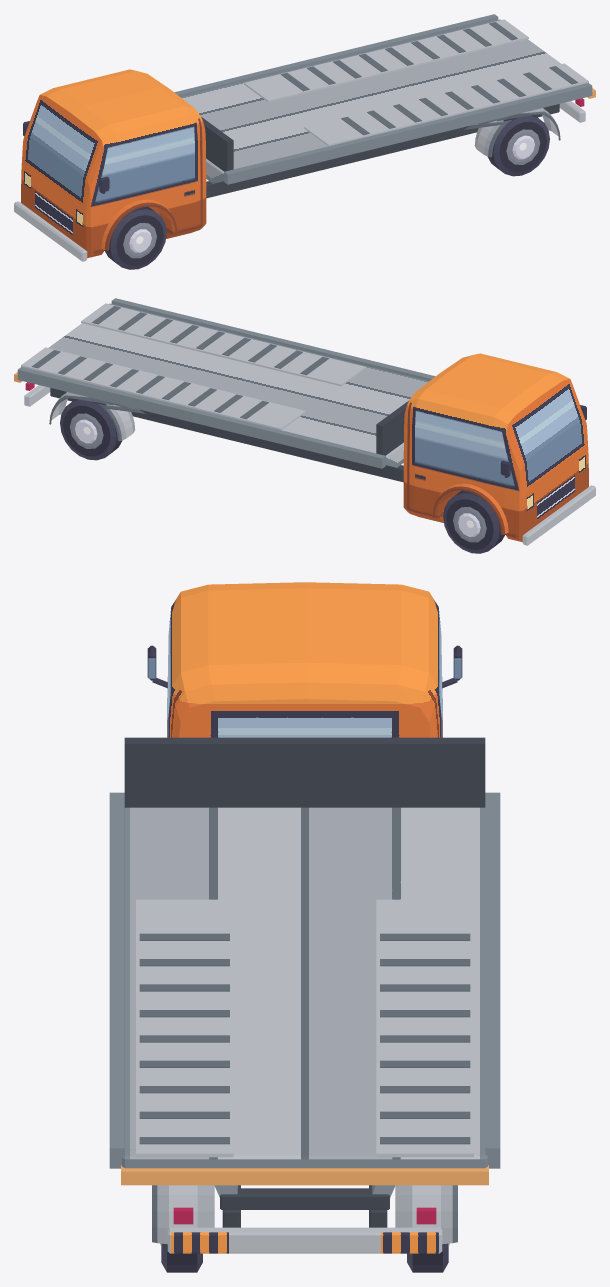
File: car-transporter-v2.glb
3 views of the same model, one above another, from view 1: azimuth 30°, elevation 25°; view 2: azimuth 150°, elevation 25°; view 3: azimuth 270°, elevation 25° (orthographic). The views are drawn at different scales.
Visible parts, largest first — view 1: Body_static, Transport_Ramp_Steel, Wheel_FL_tire_hub, Wheel_RL_tire_hub; view 2: Body_static, Transport_Ramp_Steel, Wheel_FR_tire_hub, Wheel_RR_tire_hub; view 3: Body_static, Transport_Ramp_Steel.
Boxes of the visible parts, bbox=[...] form: Body_static: bbox=[14, 14, 595, 261]; Transport_Ramp_Steel: bbox=[244, 19, 588, 146]; Wheel_FL_tire_hub: bbox=[104, 206, 166, 269]; Wheel_RL_tire_hub: bbox=[487, 115, 549, 176]; Body_static: bbox=[14, 298, 595, 545]; Transport_Ramp_Steel: bbox=[21, 303, 365, 430]; Wheel_FR_tire_hub: bbox=[443, 490, 505, 553]; Wheel_RR_tire_hub: bbox=[60, 399, 122, 460]; Body_static: bbox=[109, 582, 500, 1253]; Transport_Ramp_Steel: bbox=[136, 899, 473, 1157].
Size of the model in its own units: 155 by 41.93 by 52.
1 material, 1 textured.
